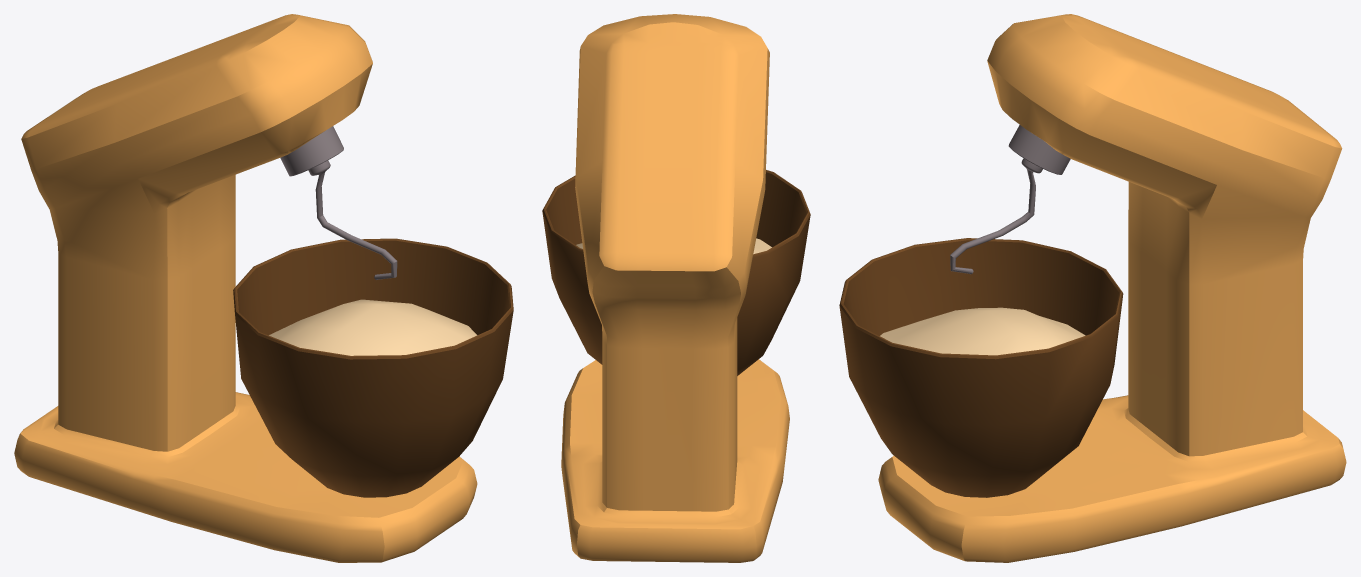
File: stand mixer with a bowl.fbx
3 views of the same model, side by side, from view 1: azimuth 30°, elevation 25°; view 2: azimuth 150°, elevation 25°; view 3: azimuth 270°, elevation 25° (orthographic). The views are drawn at different scales.
Parts seen in each view (by area): view 1: stand mixer up; view 2: stand mixer up; view 3: stand mixer up.
Boxes of the visible parts, bbox=[...] form: stand mixer up: bbox=[14, 14, 513, 562]; stand mixer up: bbox=[542, 14, 810, 562]; stand mixer up: bbox=[839, 14, 1346, 562].
Bounding box in the file's own units: 35.22 × 45.67 × 44.79.
